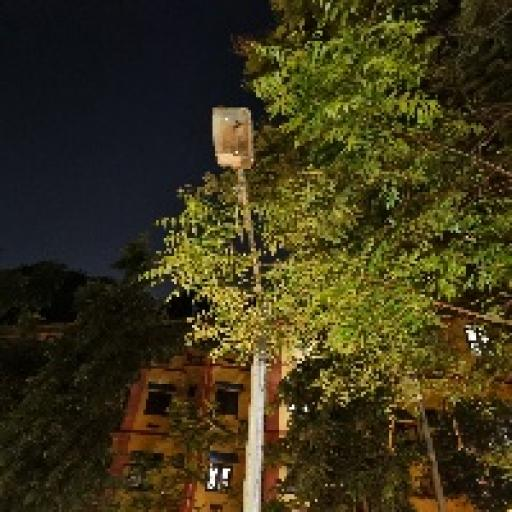Not Working: (190, 89, 276, 192)
